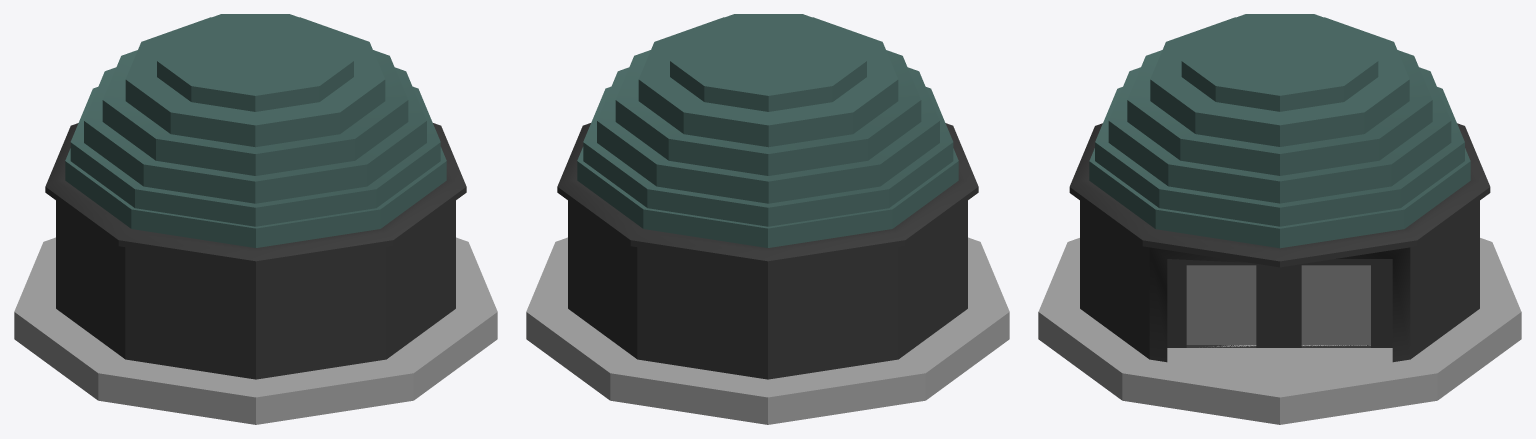
File: kupol.fbx
3 renders of one model, left to right at view 1: azimuth 30°, elevation 25°; view 2: azimuth 150°, elevation 25°; view 3: azimuth 270°, elevation 25°, orthographic.
Visible parts, largest first — view 1: pCylinder2, pCylinder1; view 2: pCylinder2, pCylinder1; view 3: pCylinder2, pCylinder1.
Boxes of the visible parts, x1,y1,x2,y2 form: pCylinder2: (45, 14, 466, 379); pCylinder1: (14, 237, 497, 424); pCylinder2: (557, 14, 978, 379); pCylinder1: (526, 237, 1009, 424); pCylinder2: (1069, 14, 1490, 362); pCylinder1: (1038, 238, 1521, 424).
Size of the model in its own units: 55.19 by 34.23 by 56.04.
